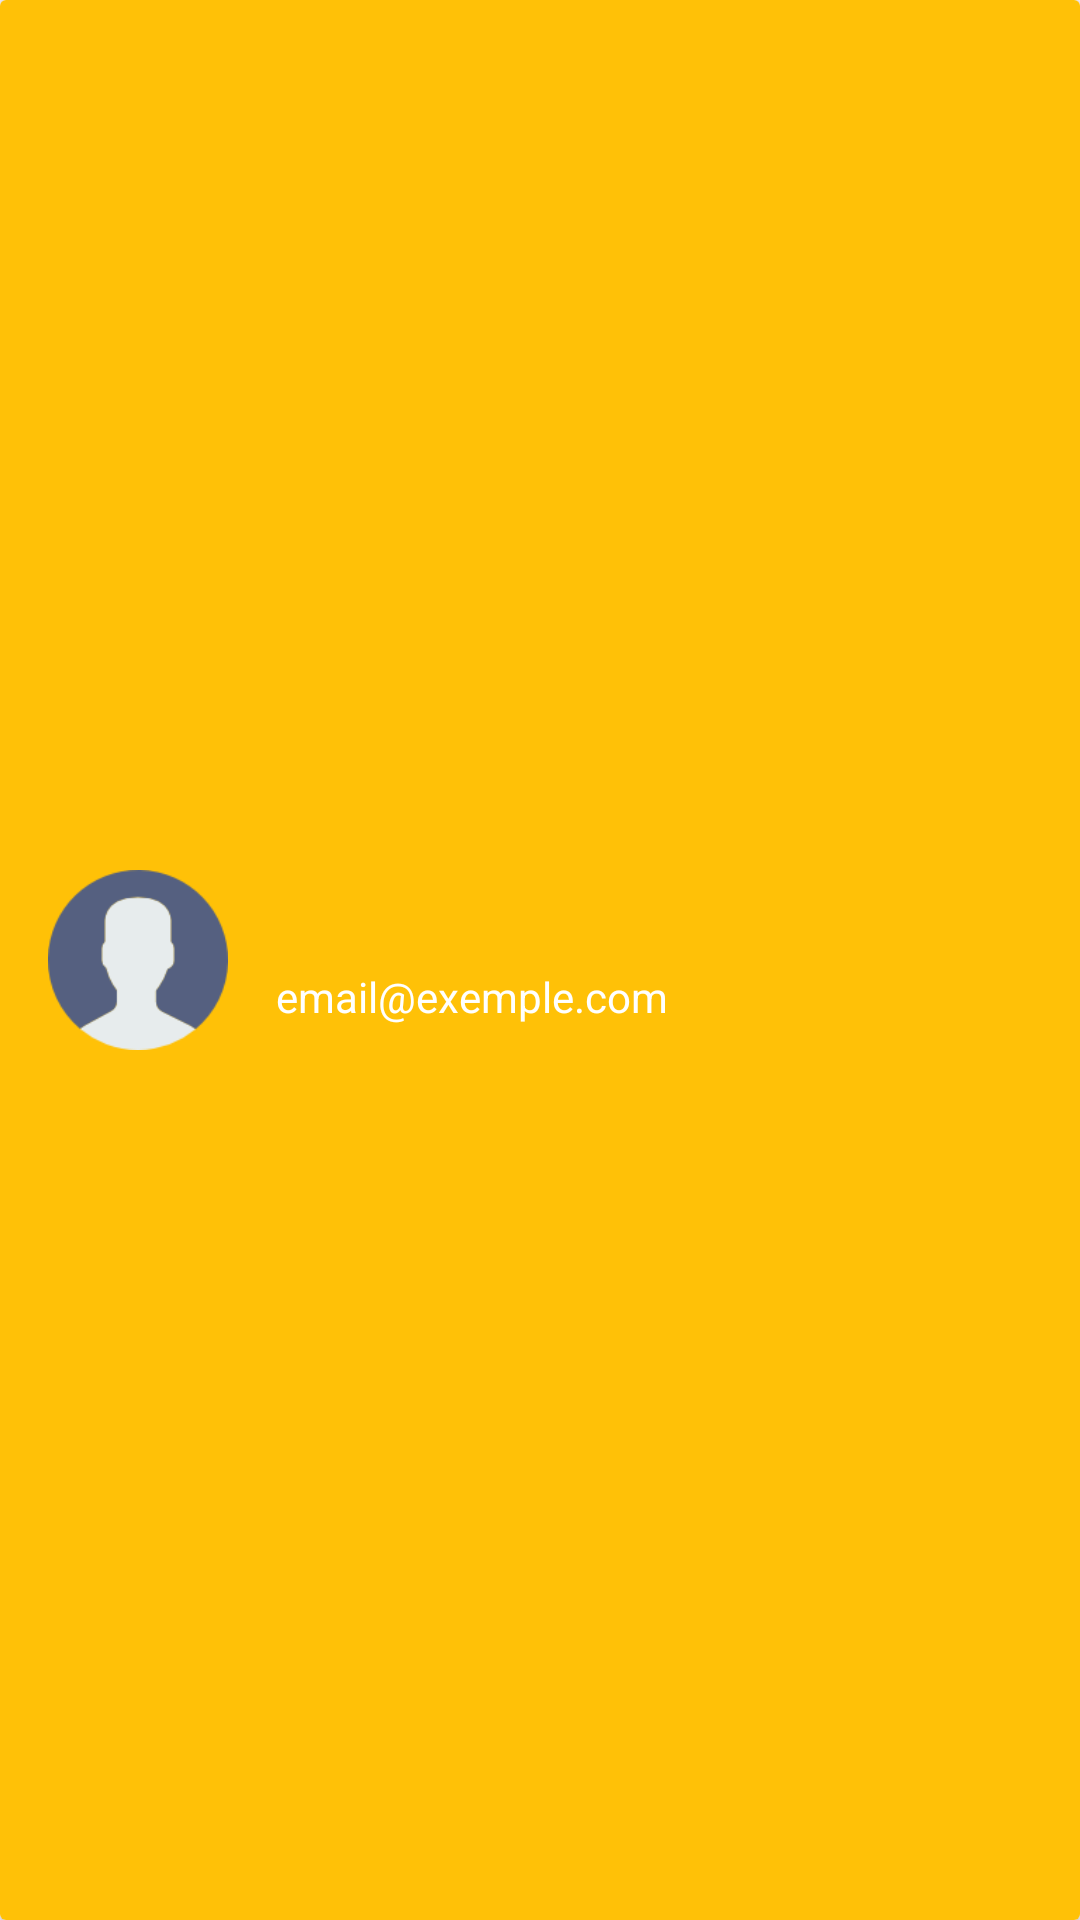

Icons on this 1080x1920 Android screen, each with the point to tap as [x,y]:
user: [138,960]
